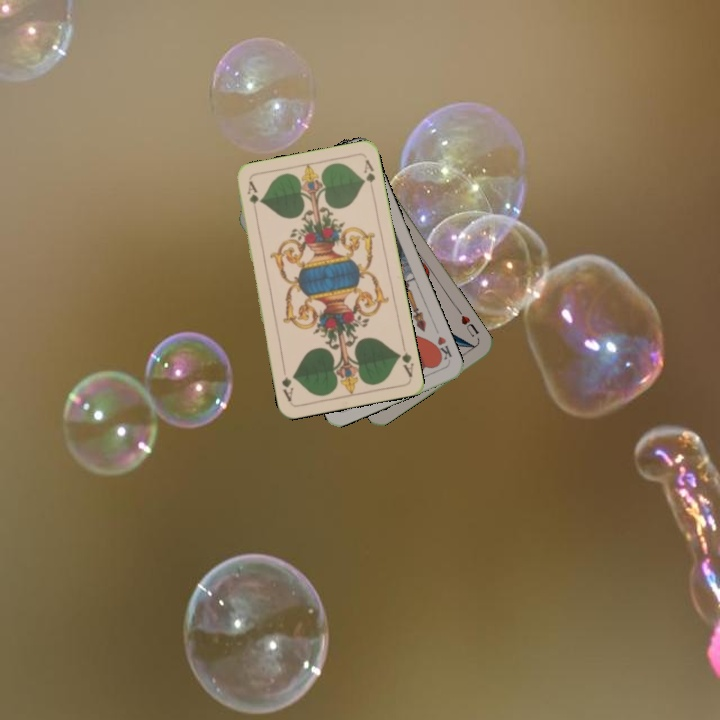GA: (393, 339, 416, 380), (243, 177, 260, 218)
HK: (429, 332, 454, 364)
HU: (455, 307, 482, 340)
